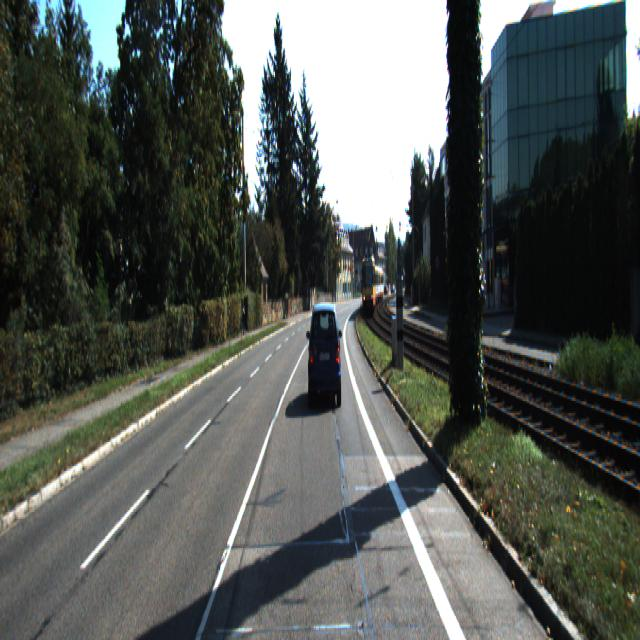Car: (308, 298, 342, 409), (362, 254, 375, 316)
